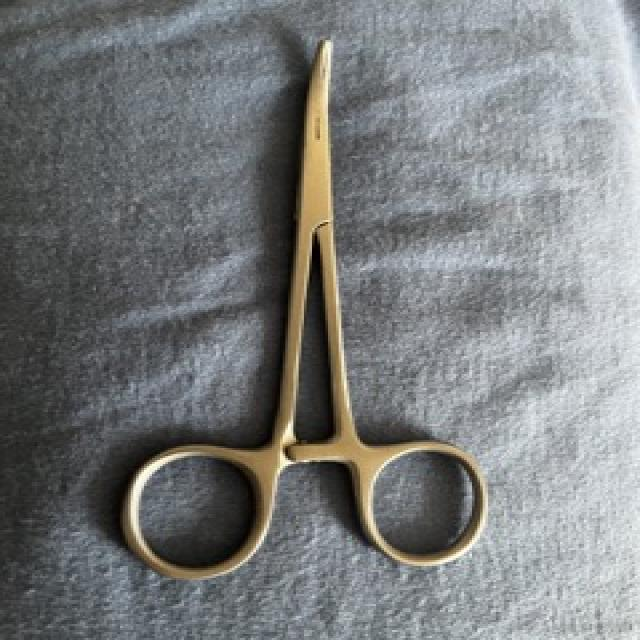scissor: (111, 33, 497, 590)
